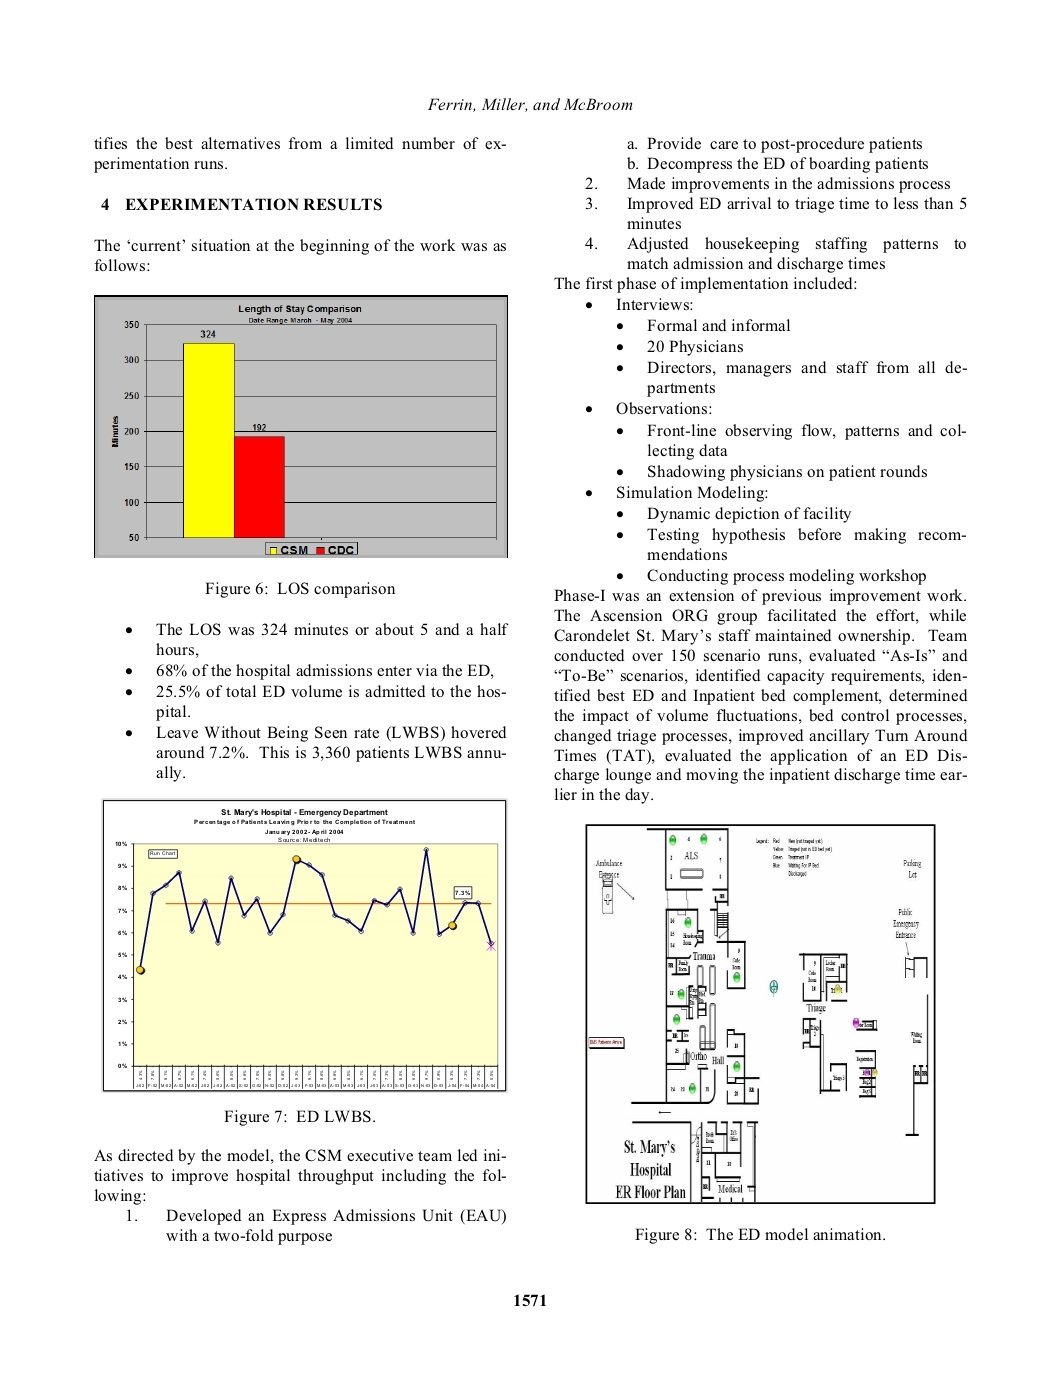figure: (585, 822, 935, 1204), (101, 797, 507, 1093), (94, 294, 507, 558)
